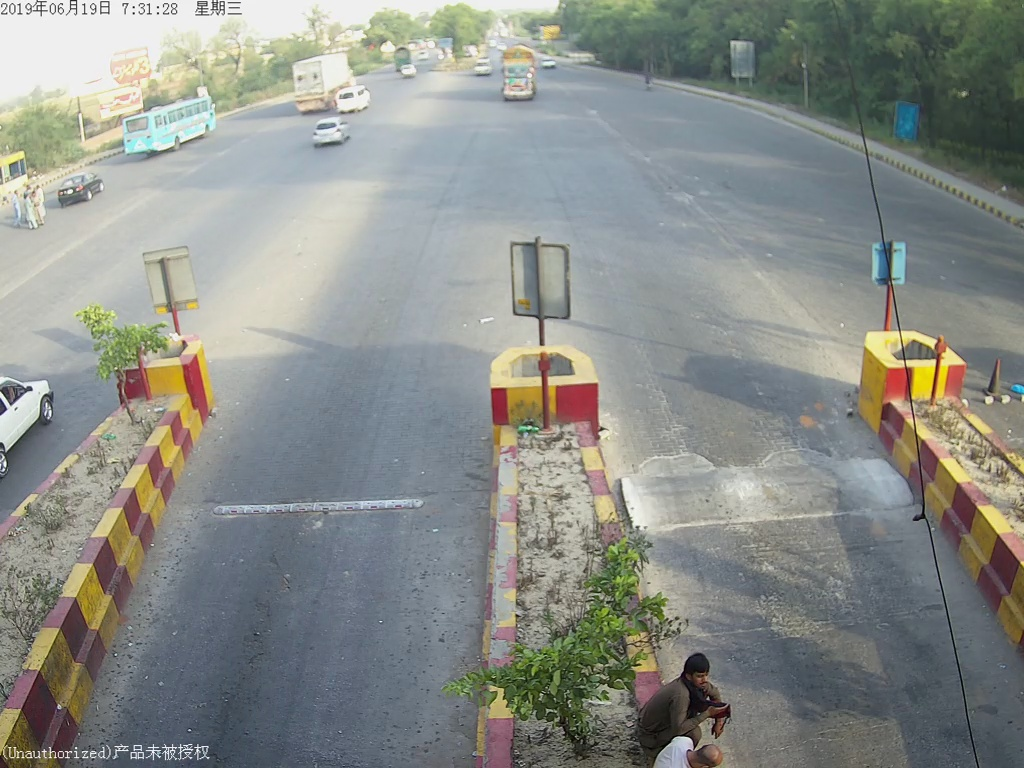Cat-4: (492, 47, 548, 115)
